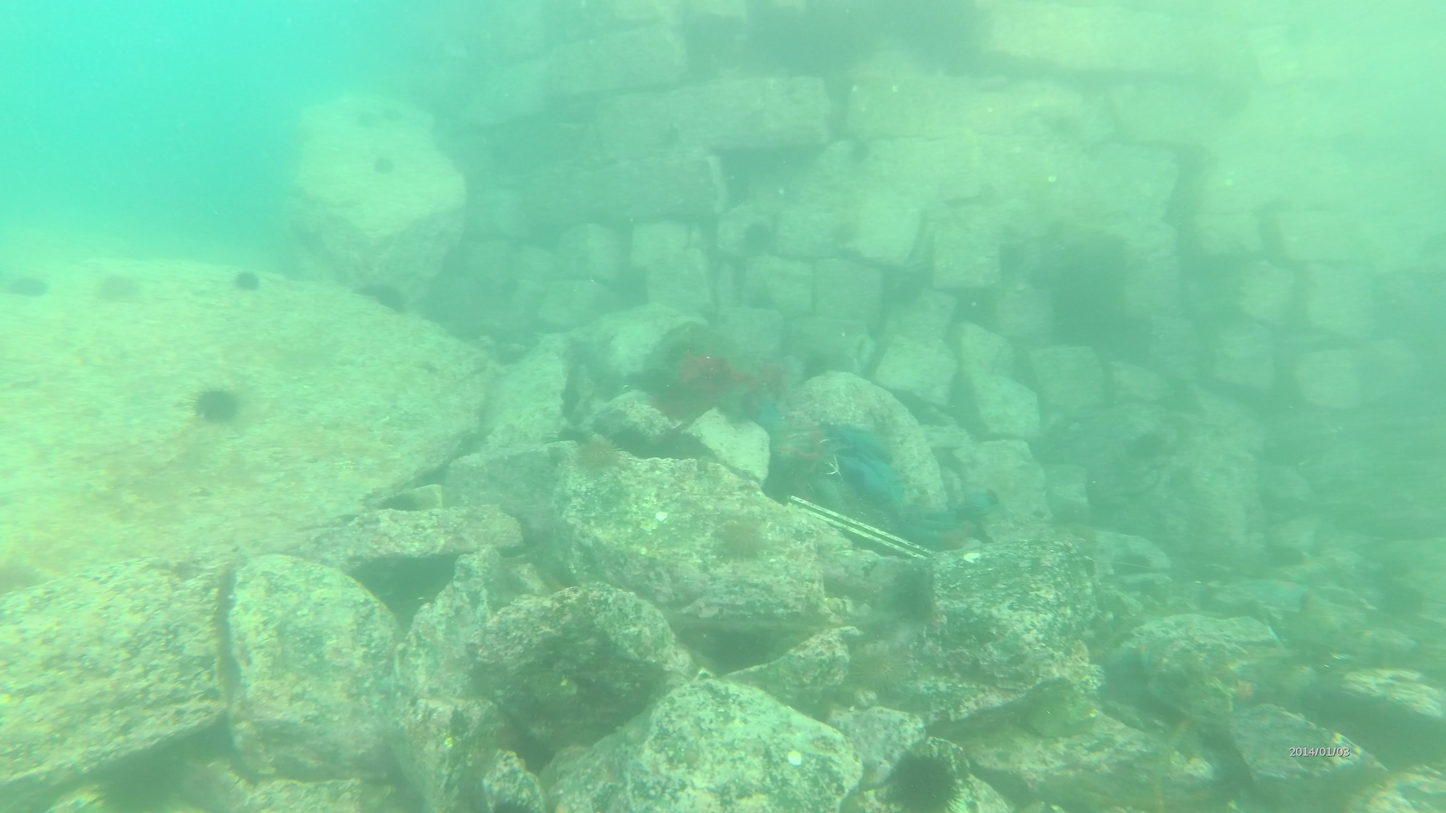starfish: (883, 743, 969, 813), (843, 642, 905, 697), (720, 515, 769, 560), (577, 434, 628, 473), (188, 385, 236, 424), (2, 272, 50, 296), (234, 267, 259, 291)
